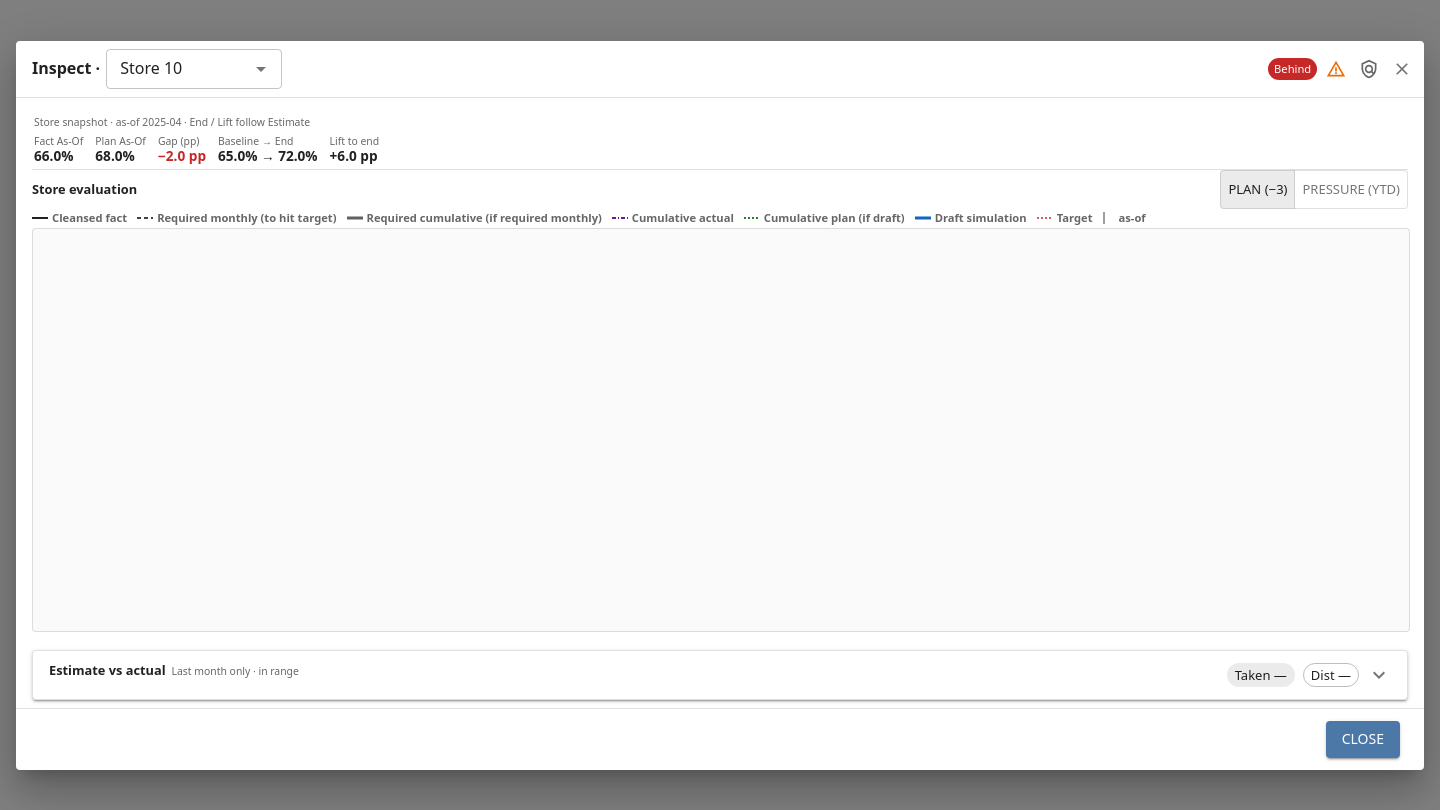
Test: StoreAuditDrawer › Apply to draft commits even-split; Reset preview clears what-if only
Click the button "Estimate vs actual Last month only · in range Taken — Dist —" at x=107, y=670, box [33,651,1407,699]
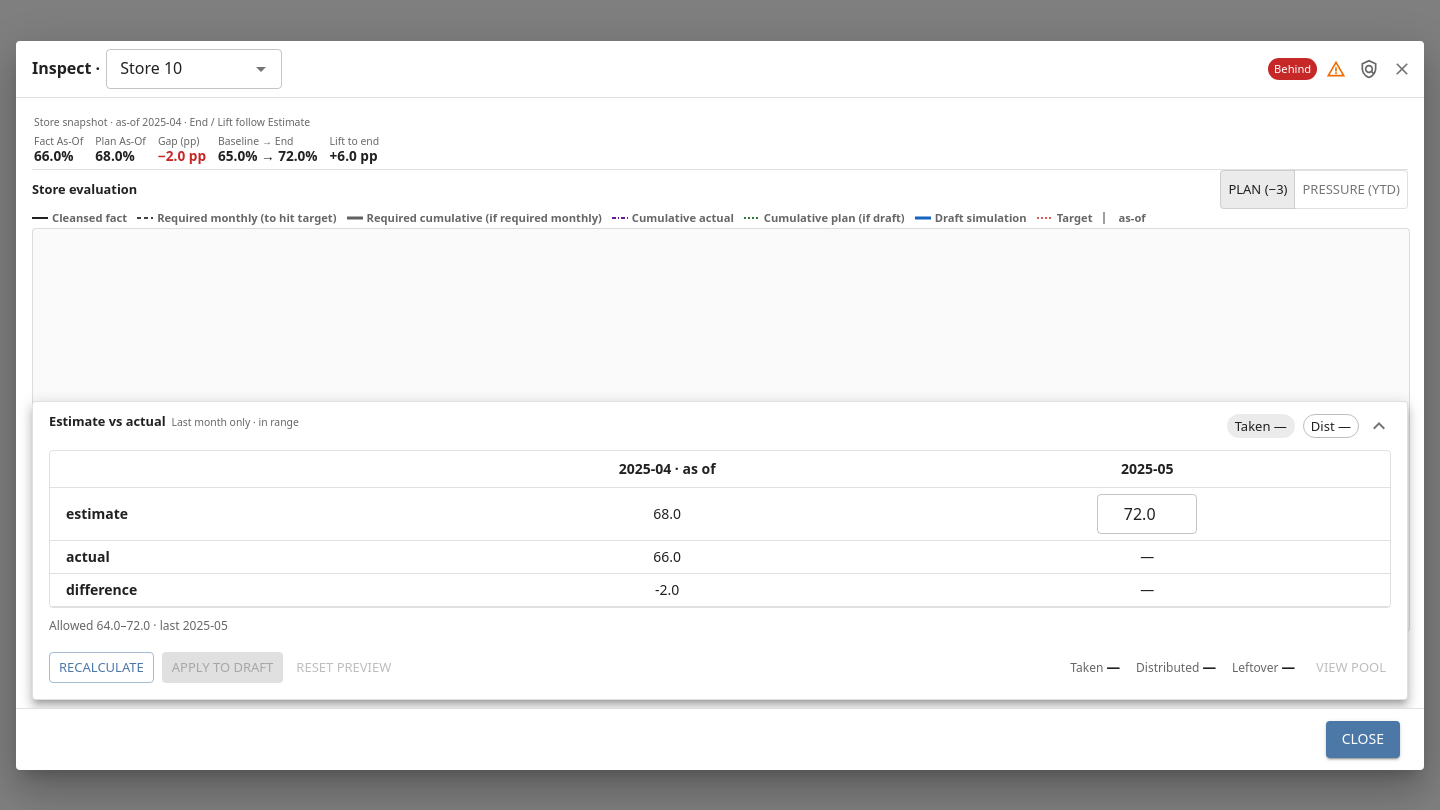
Now the number field named "Last month estimate" is shown
Replace the text in the number field named "Last month estimate" with "70" at x=1147, y=514, box [1097,494,1197,534]
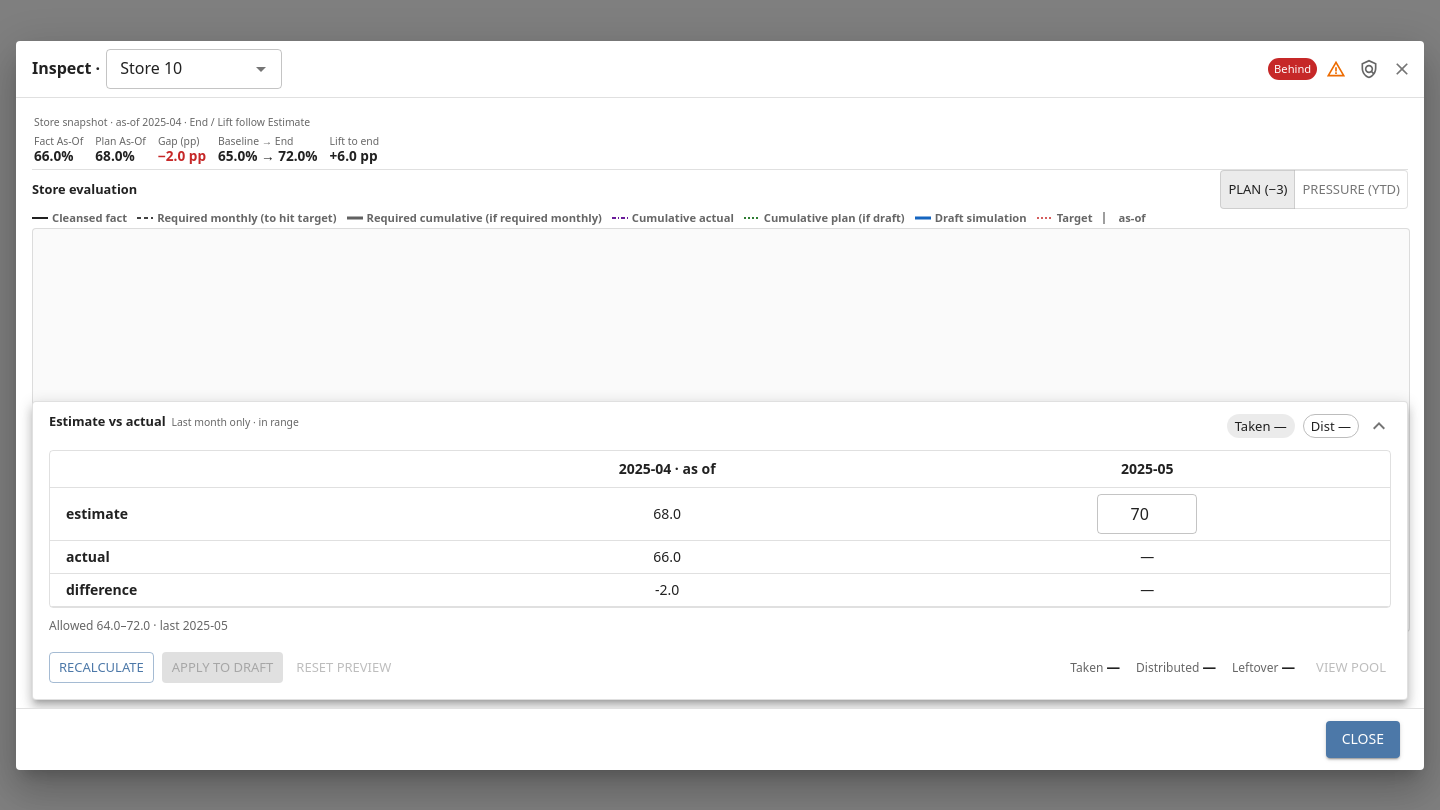
Click the button with test id "inspect-recalculate" at x=101, y=667, box [49,652,154,683]
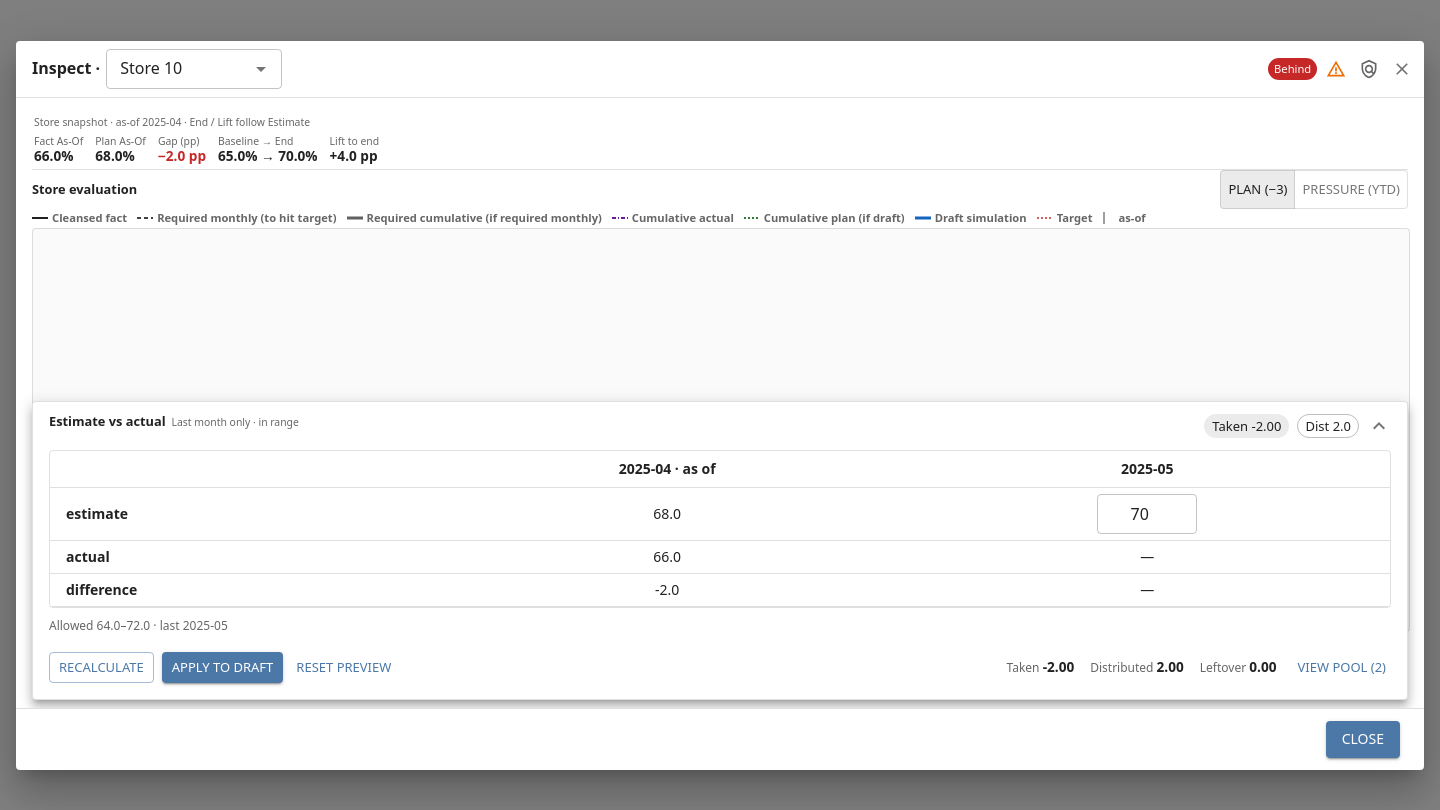
Now the button with test id "inspect-reset" is enabled, box [291,652,396,683]
Click the button with test id "inspect-apply" at x=223, y=667, box [162,652,283,683]
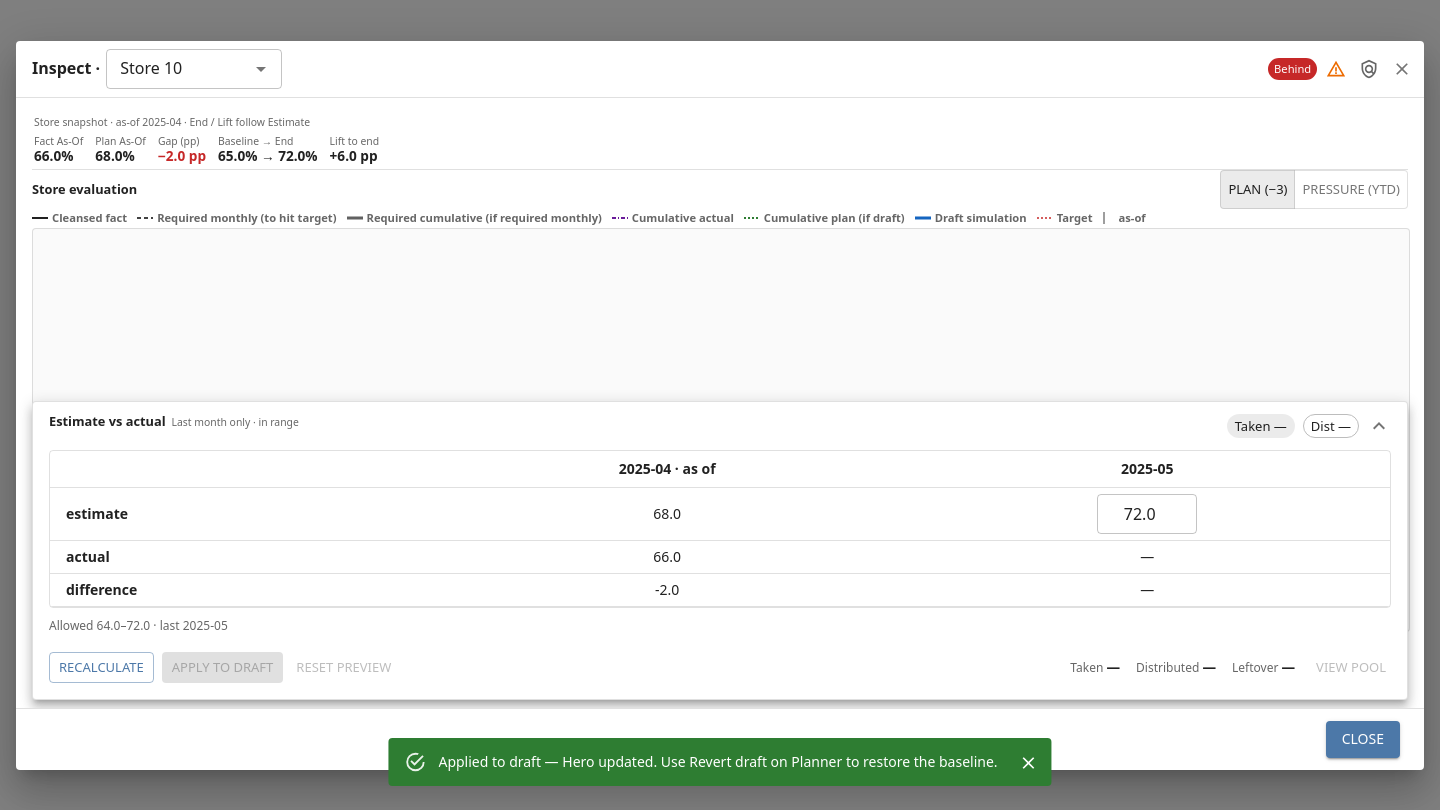
Now the button with test id "inspect-reset" is disabled, box [291,652,396,683]
Now the button with test id "inspect-apply" is disabled, box [162,652,283,683]
Now the message with test id "inspect-apply-toast" is shown, box [388,738,1052,786]
